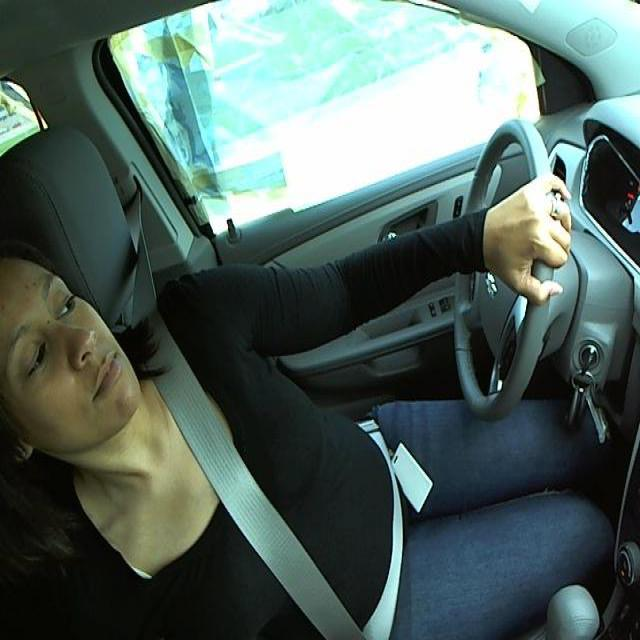seatbelt: (153, 338, 410, 638)
